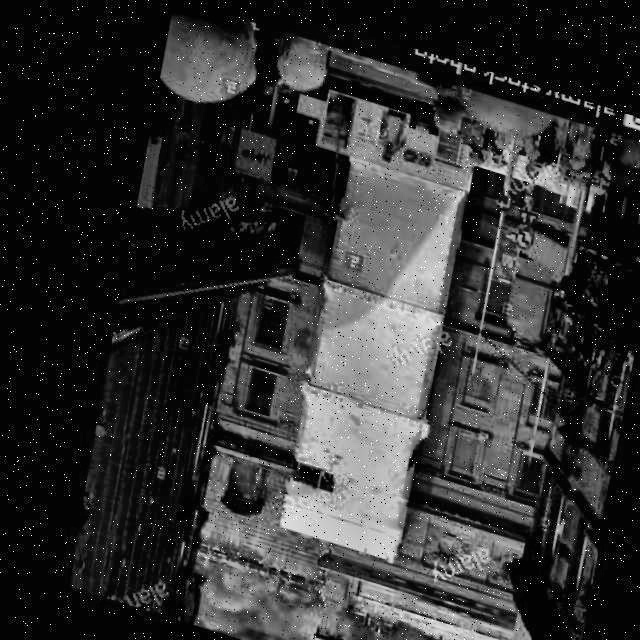Fire: (180, 543, 324, 638)
Smoke: (171, 559, 487, 640)
